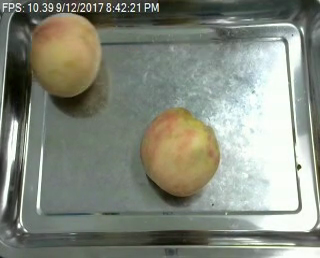Peach: (140, 106, 221, 196), (28, 11, 102, 98)
